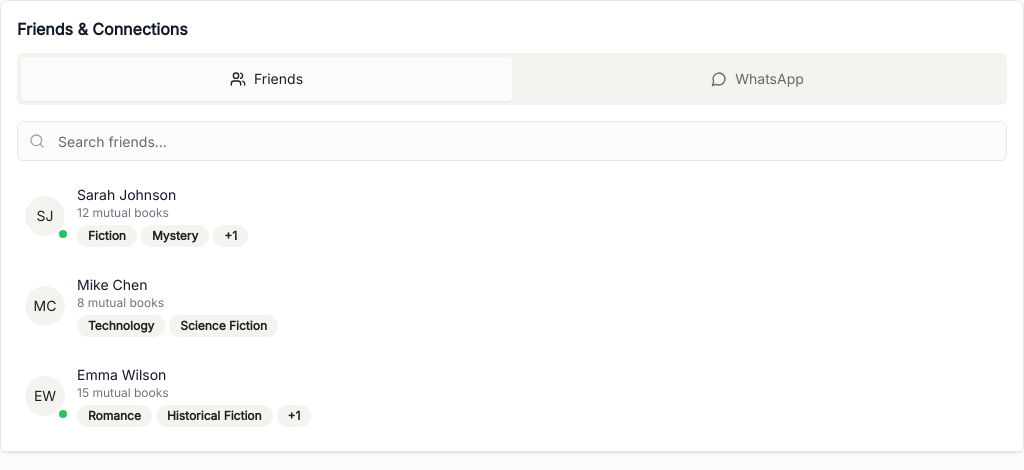
Scenario: SocialFriends › renders friends list and filters by search input
Expected: the text "Sarah Johnson" is shown, [77,186,176,203]
Expected: the text "Mike Chen" is shown, [77,276,148,293]
Type "Sarah" into the field with placeholder "Search friends..." at (512, 141), box [17,121,1007,161]
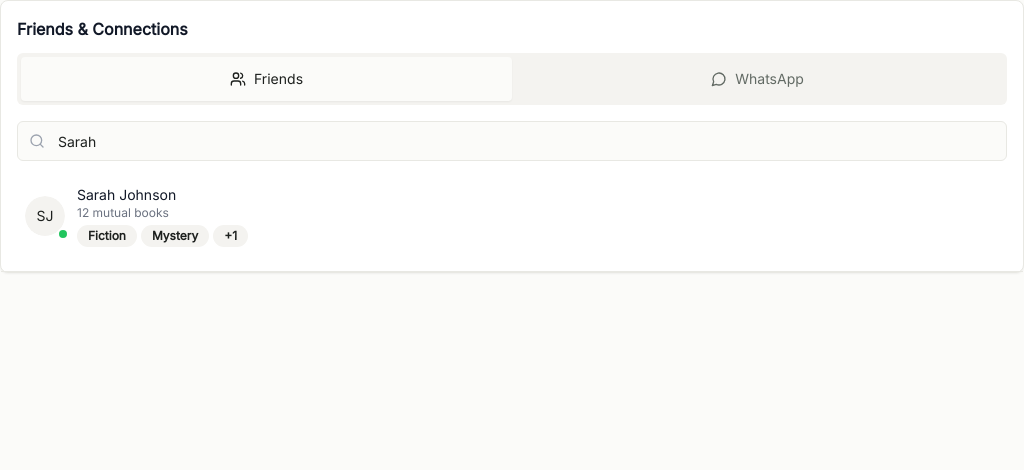
Expected: the text "Sarah Johnson" is shown, [77,186,176,203]
Now the text "Mike Chen" is gone
